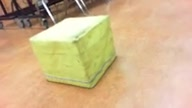cube: (29, 15, 117, 89)
